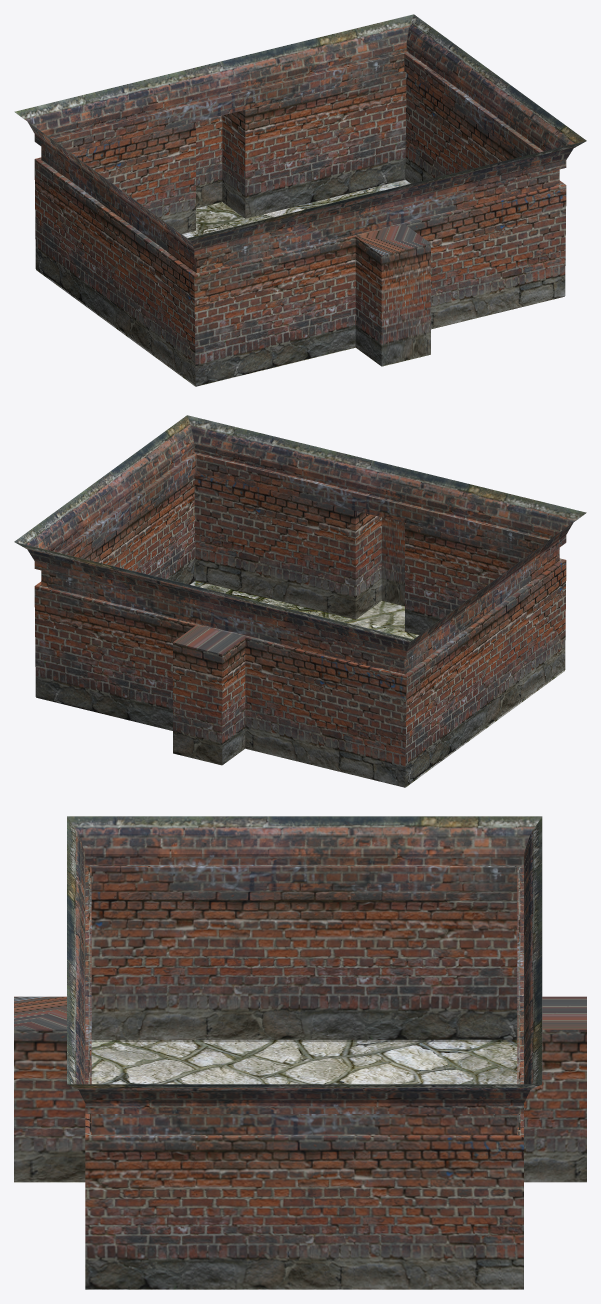
File: RoomTopBottomDoor.fbx
3 renders of one model, top to bottom at view 1: azimuth 30°, elevation 25°; view 2: azimuth 150°, elevation 25°; view 3: azimuth 270°, elevation 25°, orthographic. The views are drawn at different scales.
Visible parts, largest first — view 1: RoomTopBottomDoor; view 2: RoomTopBottomDoor; view 3: RoomTopBottomDoor.
Part boxes in pixels (x1,y1,x2,y2): RoomTopBottomDoor: (14, 14, 586, 386); RoomTopBottomDoor: (14, 415, 586, 787); RoomTopBottomDoor: (14, 816, 586, 1289).
Size of the model in its own units: 800 by 300 by 723.
